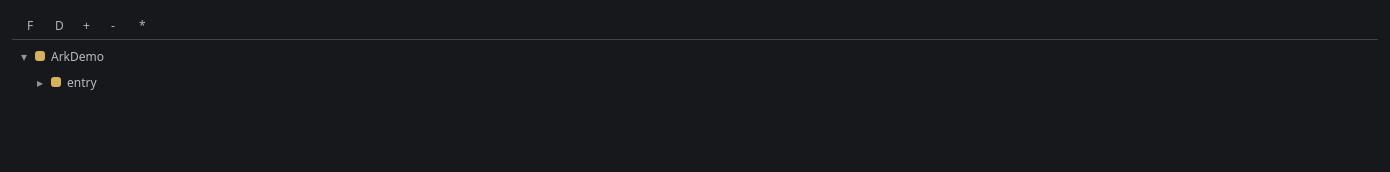
Scenario: Project tool window › loads children only when a lazy directory is expanded
Expected: the button "Index.ets" is not shown
Step 1. Click the button "▸ entry" → (40, 82), box [12,70,1378,94]
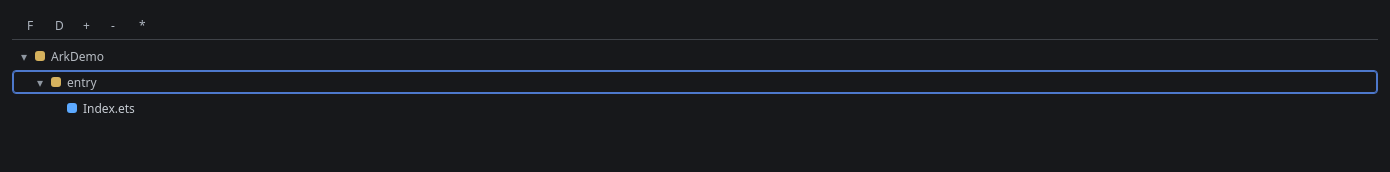
Now the button "Index.ets" is shown, box [12,96,1378,120]
